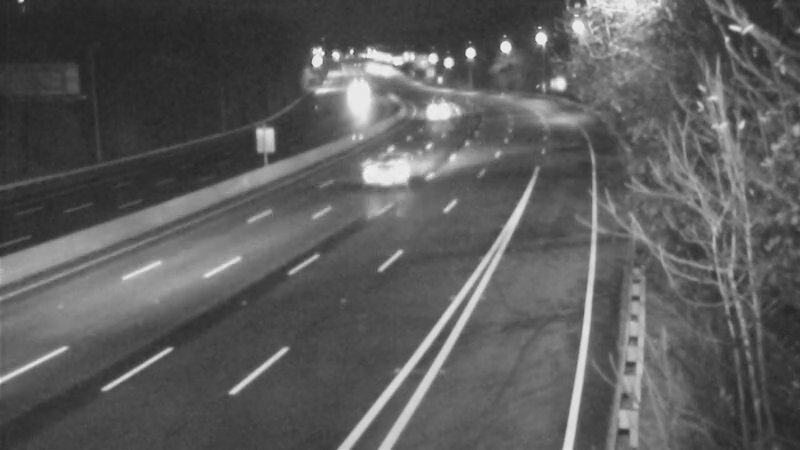vehicle: (351, 136, 431, 216), (413, 86, 463, 136), (333, 76, 383, 126)
